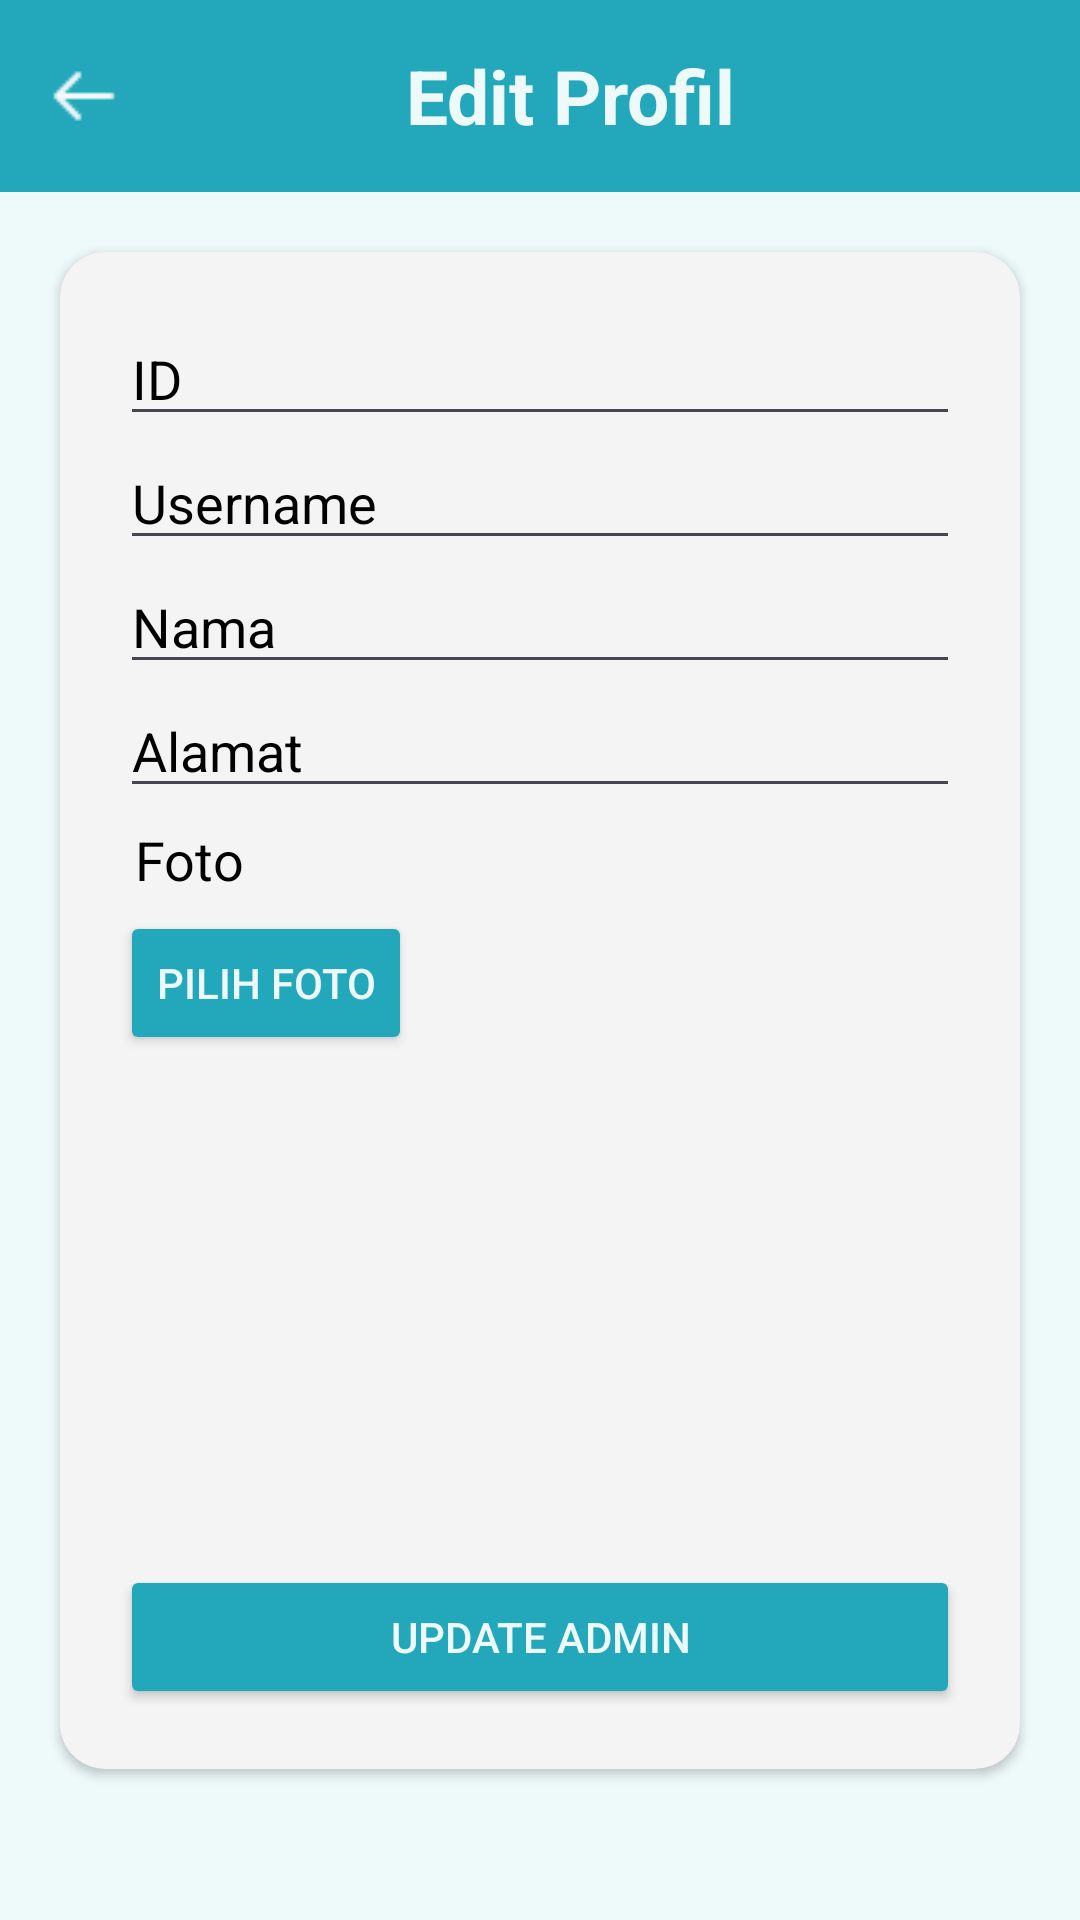

Icon click points for this 1080x1920 phone screenshot, format (x,y):
back: (84,96)
